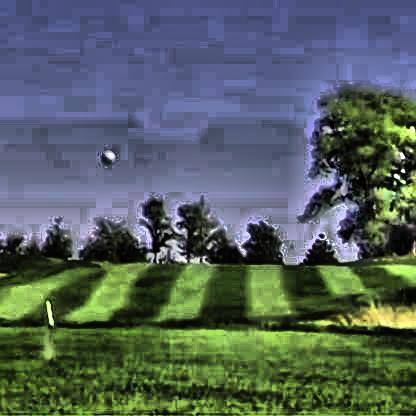golfball: (98, 147, 113, 163)
